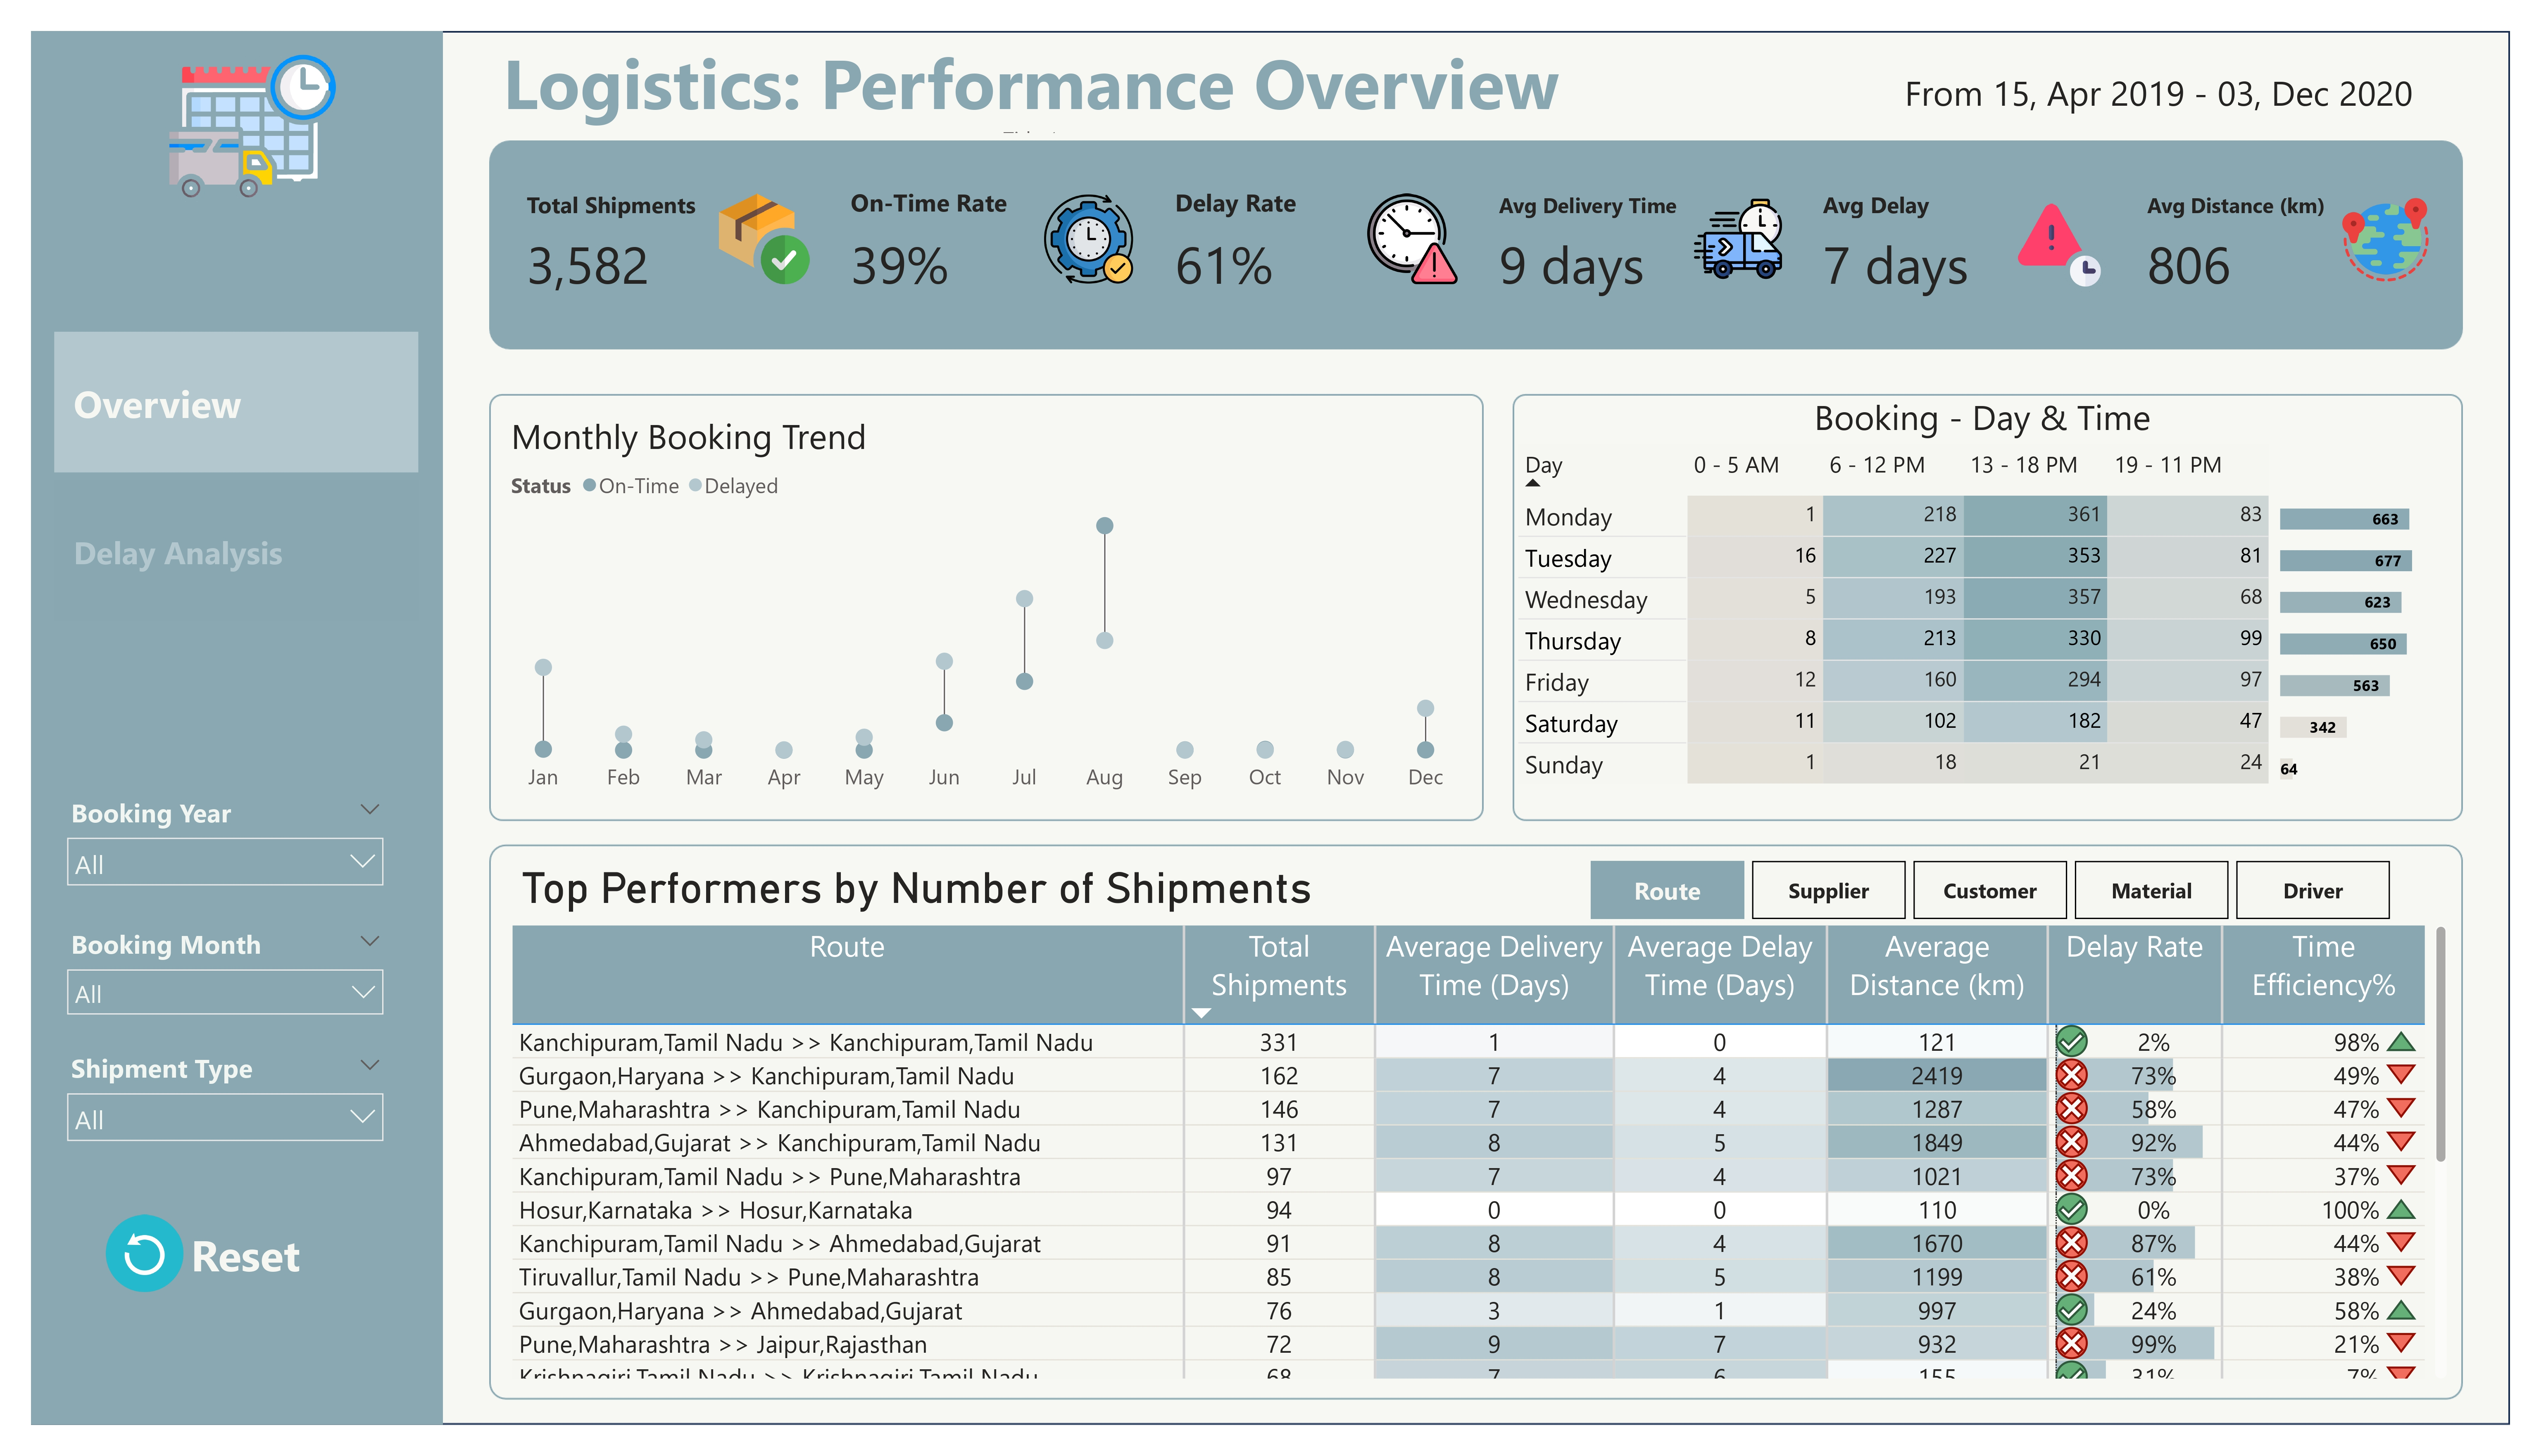

The dashboard page shown, as its layout file describes it:
{"tool":"powerbi","page":{"name":"Overview","canvas":[1920,1080],"ordinal":0},"visuals":[{"type":"cardVisual","fields":{"Data":["_Measures.Total Booking","_Measures.On-Time Rate","_Measures.Delay Rate","_Measures.Avg Delivery (Days)","_Measures.Avg Delay (Days)","_Measures.Avg Dist (km)"]},"box":[366.8,83.7,1509.1,159.1],"z":0},{"type":"image","box":[38.5,912,97.1,70.3],"z":0,"group":"g1"},{"type":"pivotTable","title":"Booking - Day & Time","fields":{"Values":["_Measures.Total Booking"],"Columns":["Dim_Booking_Details.Time Group"],"Rows":["Dim_Booking_Details.Booking Day of week"]},"box":[1147.3,279.7,728.6,319.9],"z":1000},{"type":"actionButton","box":[119.6,911.2,100.5,70.8],"z":1000,"group":"g1"},{"type":"clusteredBarChart","fields":{"Category":["Dim_Booking_Details.Booking Day of week"],"Y":["_Measures.Total Booking"]},"box":[1736.9,356.8,139,229.5],"z":2000},{"type":"lineChart","title":"Monthly Booking Trend","fields":{"Category":["Dim_Booking_Details.Booking Month Short"],"Y":["_Measures.On-Time","_Measures.Delayed"]},"box":[366.8,294.8,743.7,304.8],"z":3000},{"type":"tableEx","title":"Route","fields":{"Values":["Fact_Trip_Details.Route","_Measures.Total Booking","_Measures.Avg Delivery Time (Days)","_Measures.Avg Delay Time (Days)","_Measures.Avg Dist (km)","_Measures.Delay Rate","_Measures.Efficiency%"]},"box":[366.8,688.4,1509.1,360.1],"z":4000},{"type":"bookmarkNavigator","box":[1207.6,643.2,621.4,45.2],"z":9000},{"type":"card","fields":{"Values":["_Measures.Top"]},"box":[366.8,629.3,638.6,63.3],"z":10000},{"type":"slicer","fields":{"Values":["Dim_Booking_Details.Booking Month Name"]},"box":[18.4,688.4,264.6,83.7],"z":11000},{"type":"slicer","fields":{"Values":["Dim_Booking_Details.Booking Year"]},"box":[18.4,586.2,264.6,83.7],"z":12000},{"type":"slicer","fields":{"Values":["Dim_Booking_Details.Shipment Type"]},"box":[18.4,783.9,264.6,82.1],"z":13000},{"type":"pageNavigator","box":[18.4,232.8,284.7,224.4],"z":14000},{"type":"card","fields":{"Values":["_Measures.Title 1"]},"box":[340.7,13,867.7,70.8],"z":15000},{"type":"image","box":[39.1,0,264.4,147.1],"z":16000},{"type":"card","title":"Date Range","fields":{"Values":["_Measures.Booking Date Range"]},"box":[1418.8,13,458,70.8],"z":17000},{"type":"group","id":"g1","title":"Group 1","box":[38.5,911.2,181.7,71.1],"z":18000}]}

Visuals, with their boxes on the page's 1920x1080 design canvas (x1, y1, x2, y2). These are canvas units, not pixel positions in the 2541x1456 screenshot, which may show the page scaled, cropped or inside an application window:
cardVisual - _Measures.Total Booking x _Measures.On-Time Rate: 367:84:1876:243
image: 38:912:136:982
"Booking - Day & Time" pivotTable: 1147:280:1876:600
actionButton: 120:911:220:982
clusteredBarChart - Dim_Booking_Details.Booking Day of week x _Measures.Total Booking: 1737:357:1876:586
"Monthly Booking Trend" lineChart: 367:295:1110:600
"Route" tableEx: 367:688:1876:1048
bookmarkNavigator: 1208:643:1829:688
card - _Measures.Top: 367:629:1005:693
slicer - Dim_Booking_Details.Booking Month Name: 18:688:283:772
slicer - Dim_Booking_Details.Booking Year: 18:586:283:670
slicer - Dim_Booking_Details.Shipment Type: 18:784:283:866
pageNavigator: 18:233:303:457
card - _Measures.Title 1: 341:13:1208:84
image: 39:0:304:147
"Date Range" card: 1419:13:1877:84
"Group 1" group: 38:911:220:982
